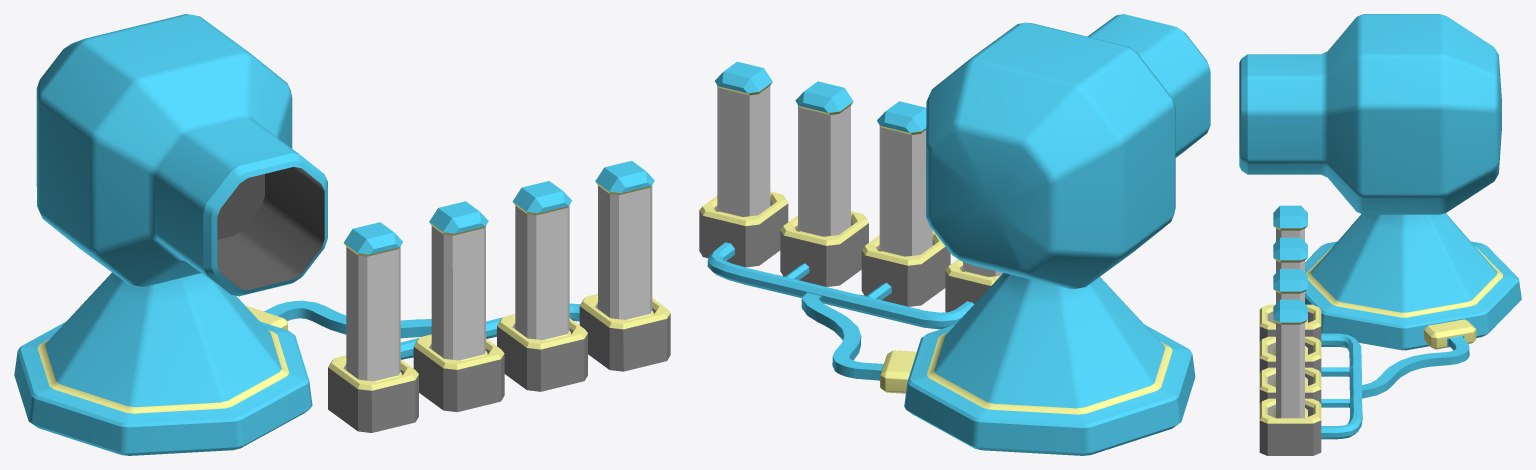
Rendered from BlueSet.fbx.
The picture shows the model from 3 angles, left to right: view 1: azimuth 30°, elevation 25°; view 2: azimuth 150°, elevation 25°; view 3: azimuth 270°, elevation 25°; orthographic projection. The views are drawn at different scales.
Visible parts, largest first — view 1: Cannon1, Stand_CN, Battery1, Battery2, Battery3, Battery4, Setter1, Setter2, Setter3, Setter4, polySurface2, pCube6; view 2: Cannon1, Stand_CN, Battery1, Battery2, Battery3, pCube6, Setter3, Setter2, Setter4, polySurface2, Setter1; view 3: Cannon1, Stand_CN, Battery1, polySurface2, Setter4, pCube6, Battery3, Battery4, Battery2, Setter2, Setter3, Setter1.
Boxes of the visible parts, x1=… form: Cannon1: x1=36, y1=14, x2=327, y2=296; Stand_CN: x1=14, y1=272, x2=312, y2=455; Battery1: x1=595, y1=160, x2=654, y2=320; Battery2: x1=512, y1=181, x2=571, y2=340; Battery3: x1=429, y1=201, x2=488, y2=360; Battery4: x1=343, y1=222, x2=402, y2=381; Setter1: x1=328, y1=355, x2=418, y2=432; Setter2: x1=413, y1=334, x2=504, y2=412; Setter3: x1=497, y1=314, x2=587, y2=391; Setter4: x1=579, y1=294, x2=670, y2=371; polySurface2: x1=245, y1=300, x2=431, y2=338; pCube6: x1=400, y1=303, x2=580, y2=359; Cannon1: x1=926, y1=14, x2=1210, y2=289; Stand_CN: x1=904, y1=273, x2=1195, y2=455; Battery1: x1=715, y1=61, x2=772, y2=217; Battery2: x1=795, y1=81, x2=853, y2=236; Battery3: x1=877, y1=101, x2=932, y2=256; pCube6: x1=707, y1=242, x2=973, y2=329; Setter3: x1=780, y1=211, x2=868, y2=286; Setter2: x1=861, y1=231, x2=950, y2=306; Setter4: x1=699, y1=191, x2=788, y2=267; polySurface2: x1=801, y1=292, x2=916, y2=393; Setter1: x1=945, y1=259, x2=1000, y2=312; Cannon1: x1=1239, y1=14, x2=1501, y2=214; Stand_CN: x1=1305, y1=213, x2=1521, y2=350; Battery1: x1=1273, y1=299, x2=1307, y2=418; polySurface2: x1=1362, y1=319, x2=1476, y2=398; Setter4: x1=1259, y1=398, x2=1321, y2=455; pCube6: x1=1321, y1=333, x2=1362, y2=439; Battery3: x1=1273, y1=237, x2=1307, y2=355; Battery4: x1=1273, y1=205, x2=1307, y2=323; Battery2: x1=1273, y1=269, x2=1307, y2=387; Setter2: x1=1259, y1=336, x2=1321, y2=372; Setter3: x1=1259, y1=367, x2=1321, y2=403; Setter1: x1=1259, y1=304, x2=1321, y2=341.
Bounding box in the file's own units: 394 × 240 × 228.
